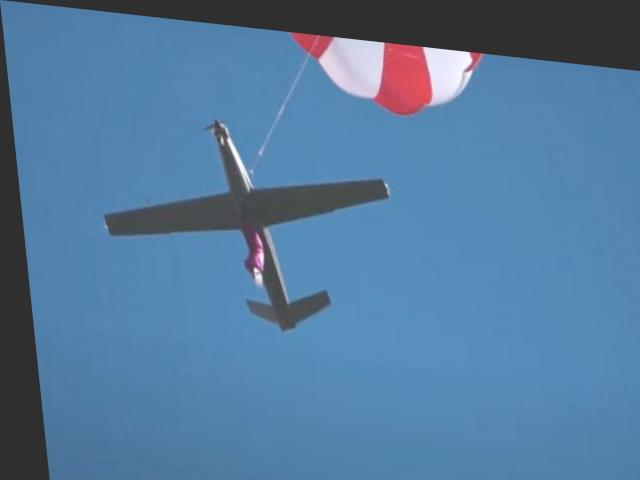iha: (89, 105, 400, 336)
